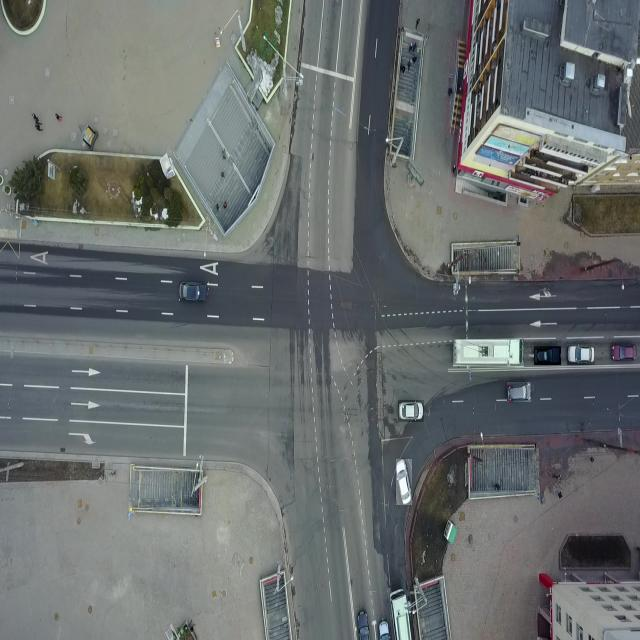car: (393, 460, 413, 505), (178, 281, 206, 302), (531, 346, 561, 364), (567, 344, 594, 364), (398, 402, 423, 421), (354, 609, 369, 639), (609, 345, 637, 360), (506, 384, 530, 401)
